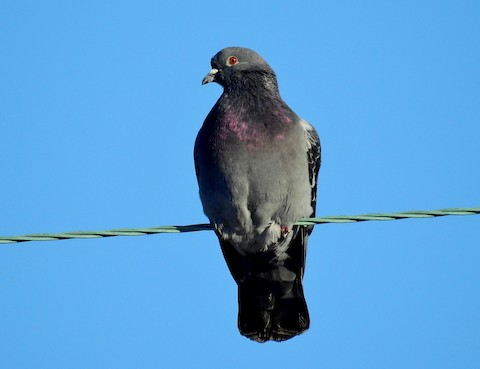pigeon: (184, 41, 327, 345)
